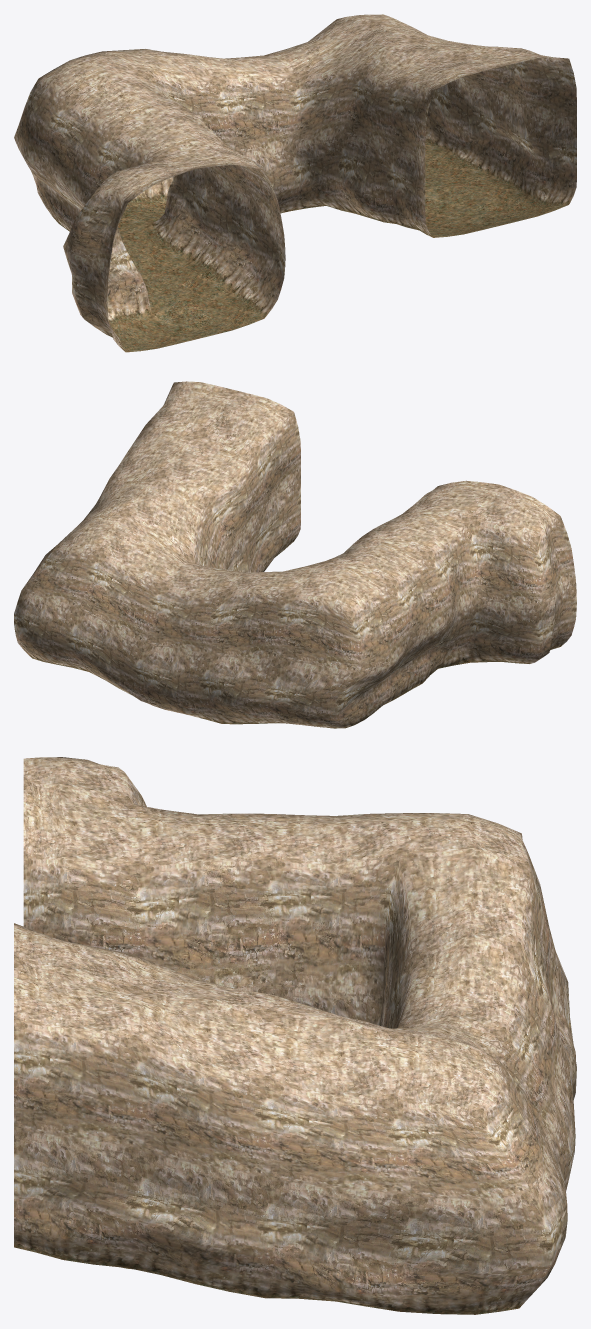
The model's file is thm_all_cave_s03_mirror_r12_mesh_r12.fbx.
The picture shows the model from 3 angles, top to bottom: view 1: azimuth 30°, elevation 25°; view 2: azimuth 150°, elevation 25°; view 3: azimuth 270°, elevation 25°; orthographic projection. The views are drawn at different scales.
Parts seen in each view (by area): view 1: mesh_node; view 2: mesh_node; view 3: mesh_node.
Part boxes in pixels (bbox=[...]): mesh_node: bbox=[14, 14, 576, 352]; mesh_node: bbox=[14, 381, 576, 728]; mesh_node: bbox=[14, 757, 576, 1314].
Size of the model in its own units: 50.31 by 22.47 by 33.73.
